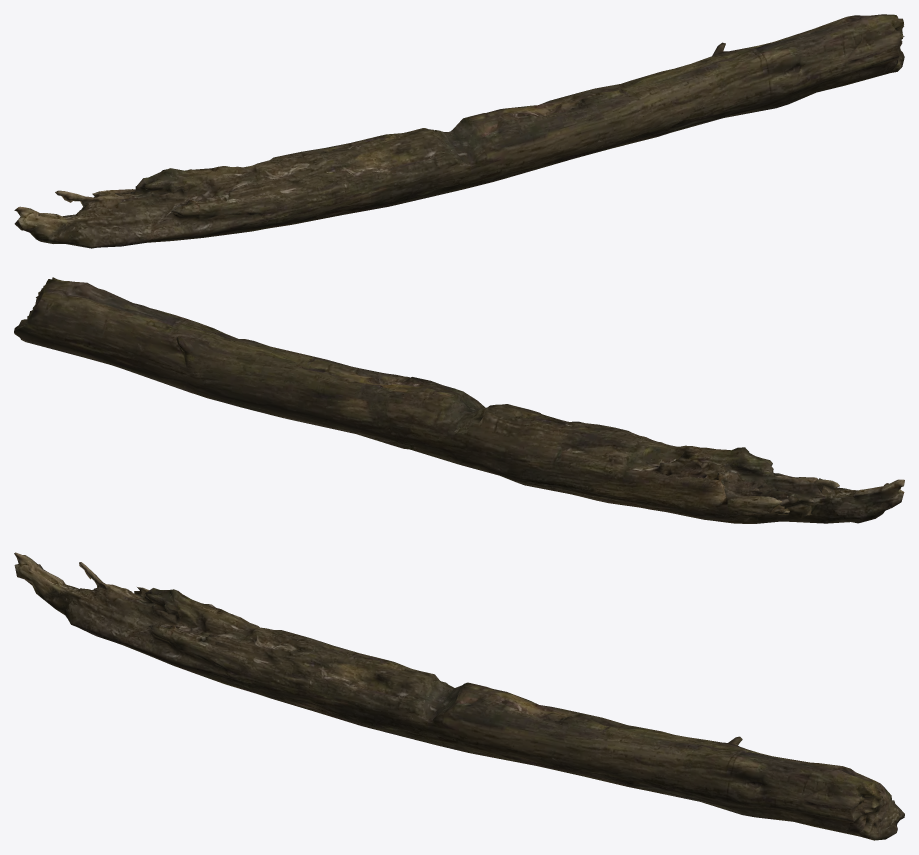
The model's file is trunk.glb.
The picture shows the model from 3 angles, top to bottom: view 1: azimuth 30°, elevation 25°; view 2: azimuth 150°, elevation 25°; view 3: azimuth 330°, elevation 25°; orthographic projection.
Parts seen in each view (by area): view 1: dead_tree_trunk; view 2: dead_tree_trunk; view 3: dead_tree_trunk.
Part boxes in pixels (x1,y1,x2,y2): dead_tree_trunk: [14, 14, 904, 248]; dead_tree_trunk: [14, 277, 904, 523]; dead_tree_trunk: [14, 552, 904, 840].
Bounding box in the file's own units: 3.05 × 0.2905 × 0.2775.
Materials: 1 (1 with a texture image).
